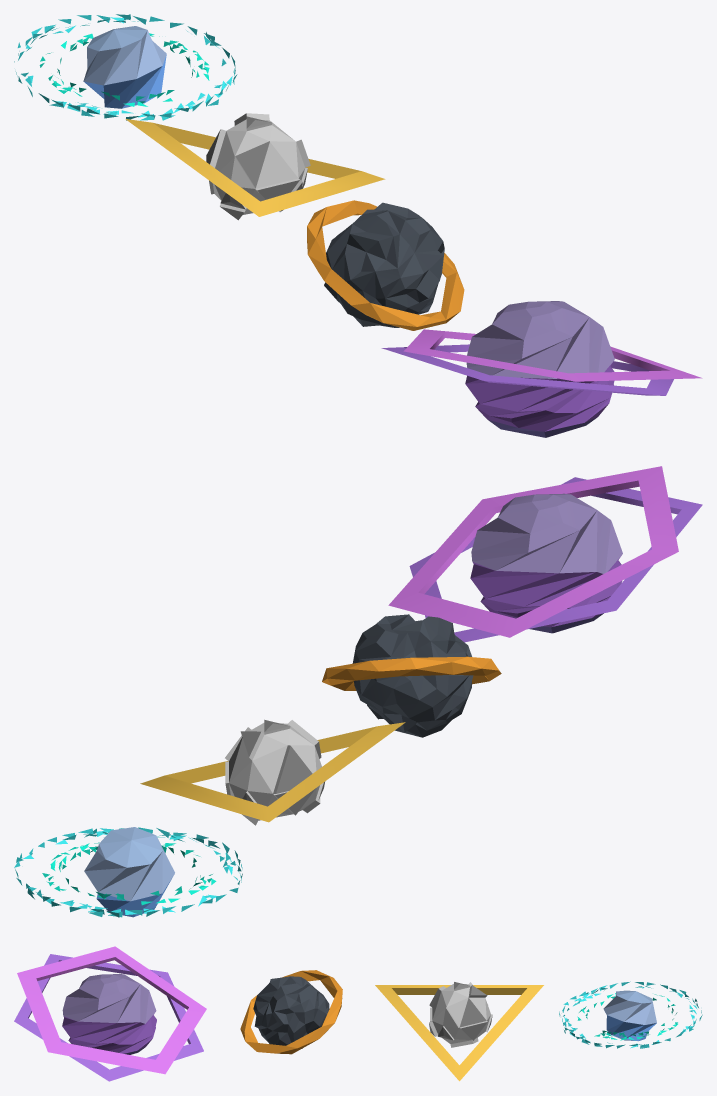
The model's file is planets.fbx.
The picture shows the model from 3 angles, top to bottom: view 1: azimuth 30°, elevation 25°; view 2: azimuth 150°, elevation 25°; view 3: azimuth 270°, elevation 25°; orthographic projection. The views are drawn at different scales.
Parts seen in each view (by area): view 1: planet_two, planet, planet_four, planet_three, planet_four1, planet1, planet_two1, planet_three1, planet_two2; view 2: planet_two, planet_two1, planet, planet_four, planet_three, planet_four1, planet_two2, planet1, planet_three1; view 3: planet_two1, planet_two, planet, planet_four1, planet_four, planet_two2, planet1, planet_three, planet_three1.
Part boxes in pixels (x1,y1,x2,y2): planet_two: (465, 301, 614, 437); planet: (324, 202, 444, 327); planet_four: (206, 113, 310, 220); planet_three: (83, 26, 166, 108); planet_four1: (125, 119, 385, 216); planet1: (307, 200, 464, 330); planet_two1: (403, 329, 702, 381); planet_three1: (14, 14, 237, 120); planet_two2: (381, 344, 673, 395); planet_two: (470, 493, 622, 633); planet_two1: (388, 466, 678, 637); planet: (352, 614, 473, 737); planet_four: (225, 719, 325, 825); planet_three: (84, 827, 174, 917); planet_four1: (140, 722, 405, 822); planet_two2: (409, 477, 702, 642); planet1: (322, 656, 501, 690); planet_three1: (14, 827, 242, 917); planet_two1: (17, 946, 206, 1074); planet_two: (62, 974, 156, 1054); planet: (253, 976, 329, 1048); planet_four1: (375, 985, 543, 1081); planet_four: (429, 982, 492, 1047); planet_two2: (14, 954, 203, 1081); planet1: (240, 970, 342, 1054); planet_three: (603, 990, 656, 1041); planet_three1: (559, 981, 702, 1048).
Size of the model in its own units: 14403 by 6368 by 50680.
